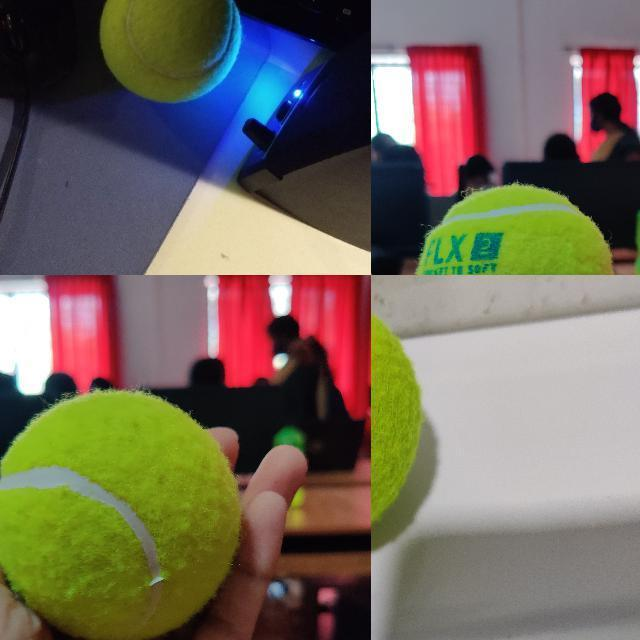tennis-ball: (0, 390, 242, 639), (416, 183, 616, 274), (98, 0, 242, 104)
